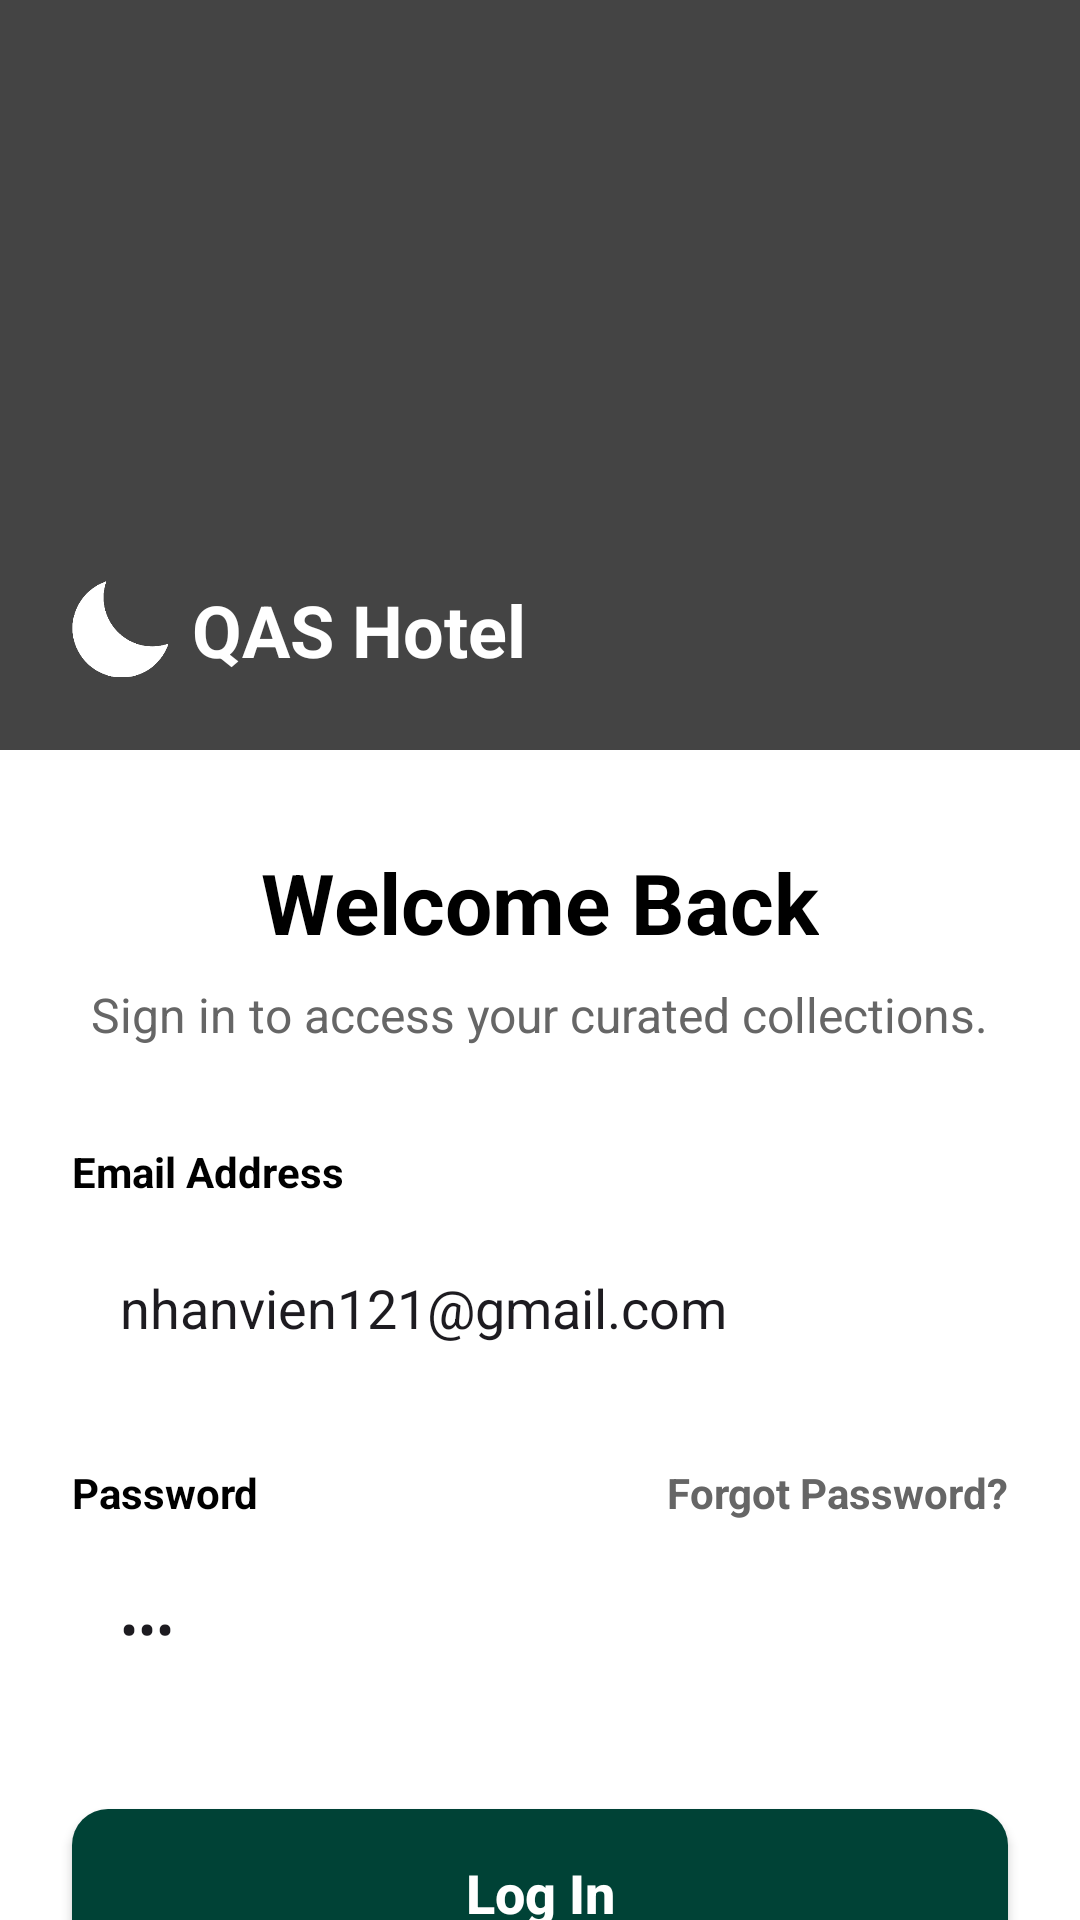

Icons on this 1080 × 1920 Android screen, each with its box as (x1, y1, x2, y2):
moon: (72, 581, 168, 677)
